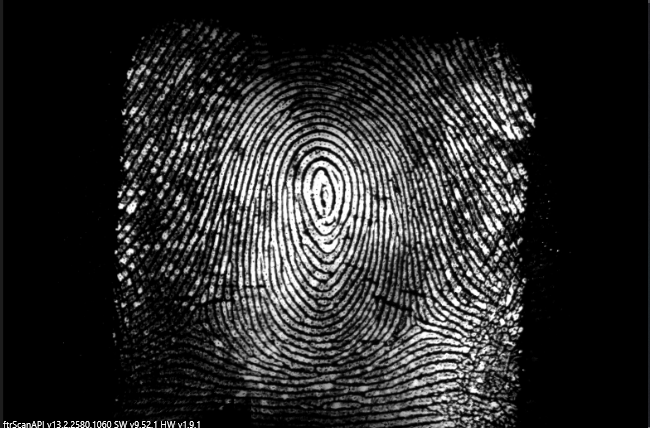nucelo: (301, 158, 344, 227)
verticilo: (172, 295, 220, 333), (393, 308, 433, 337)
